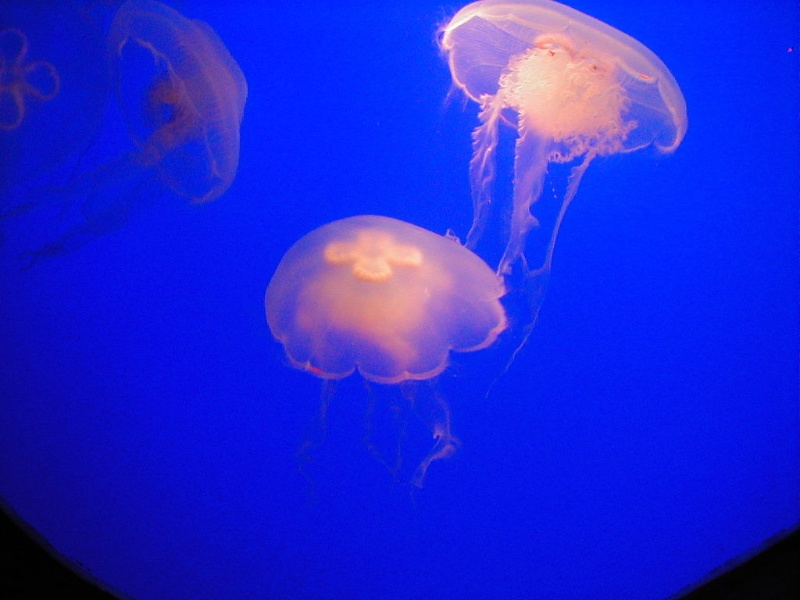Jellyfish: (433, 0, 684, 394), (0, 0, 252, 278), (275, 198, 546, 419), (0, 0, 111, 190)
